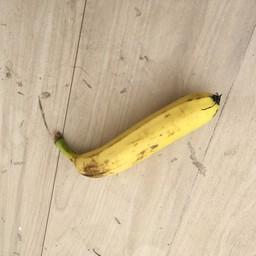Good_banana: (45, 93, 223, 176)
